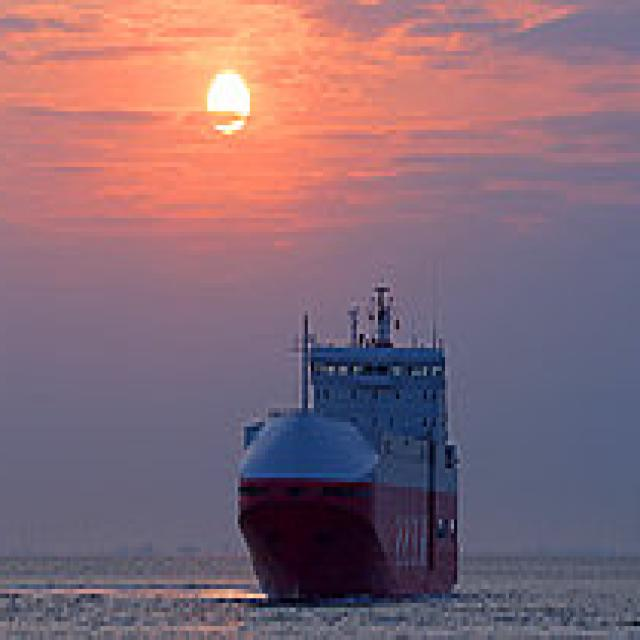Carrier: (235, 269, 469, 603)
